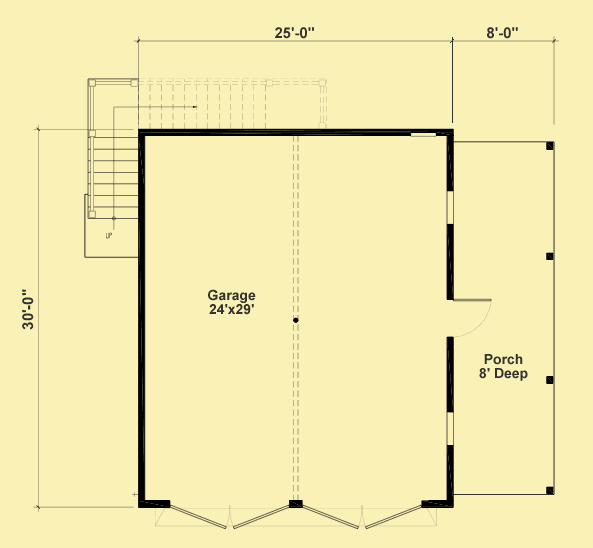door: (168, 500, 292, 532), (304, 499, 422, 532), (446, 297, 493, 339)
stairs: (85, 77, 141, 264)
window: (444, 189, 457, 227), (445, 409, 456, 449)
